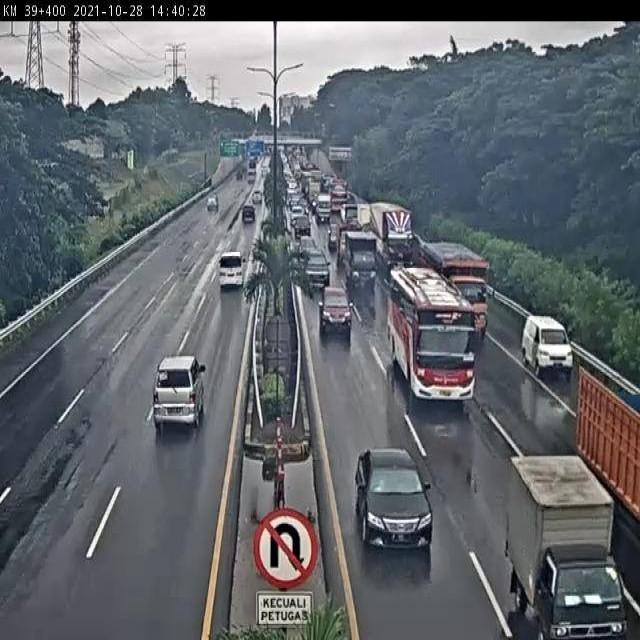bus-l-: (387, 265, 474, 396)
car: (356, 444, 434, 551), (154, 360, 202, 425), (521, 314, 571, 369), (319, 283, 350, 328), (304, 244, 330, 284), (219, 251, 245, 289), (240, 207, 259, 228)
truck-l-: (416, 238, 487, 338)
truck-m-: (344, 235, 380, 288)
truck-s-: (506, 457, 625, 640)
